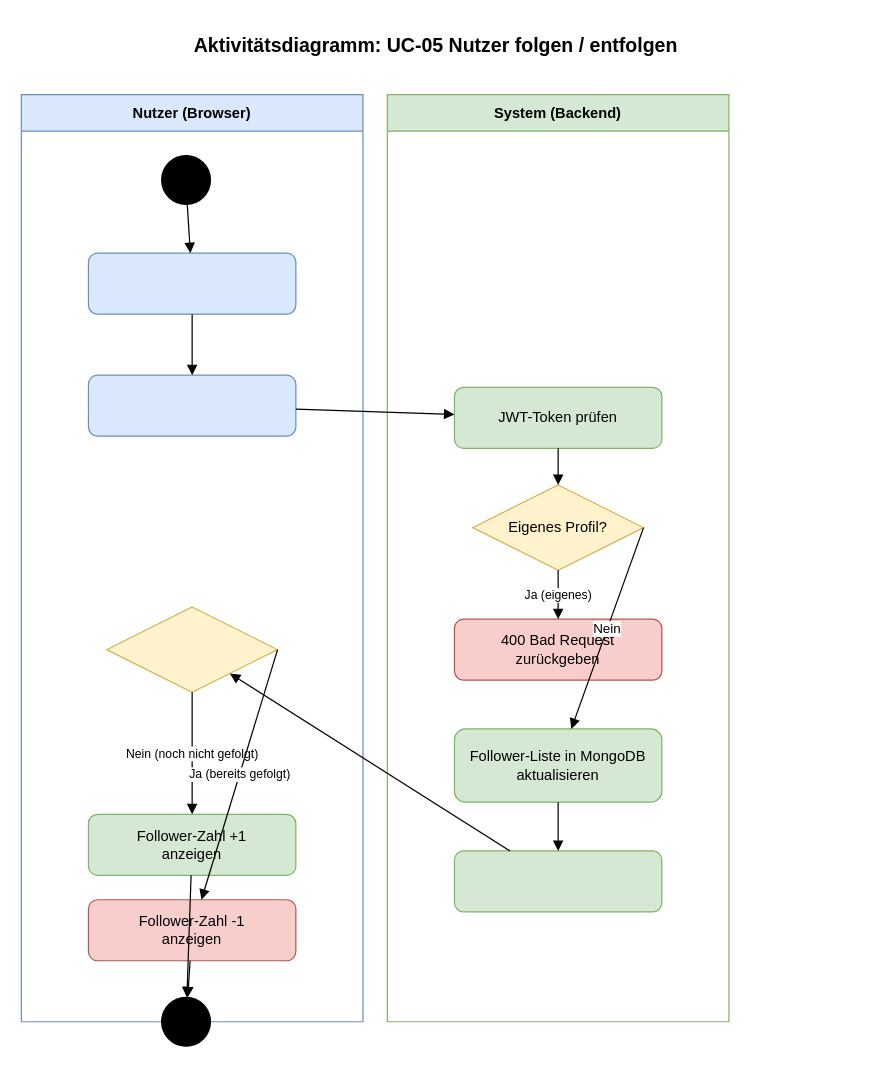
This 872x1068 diagram has some shape labels left out. The shapes that lost their labels are listed below. From the top down, each one's centre as x and y in pixels, then its label:
At point (191, 283): "Nutzerprofil öffnen".
At point (191, 405): "Folgen / Entfolgen klicken".
At point (192, 649): "Bereits gefolgt?".
At point (557, 881): "200 OK zurückgeben".
